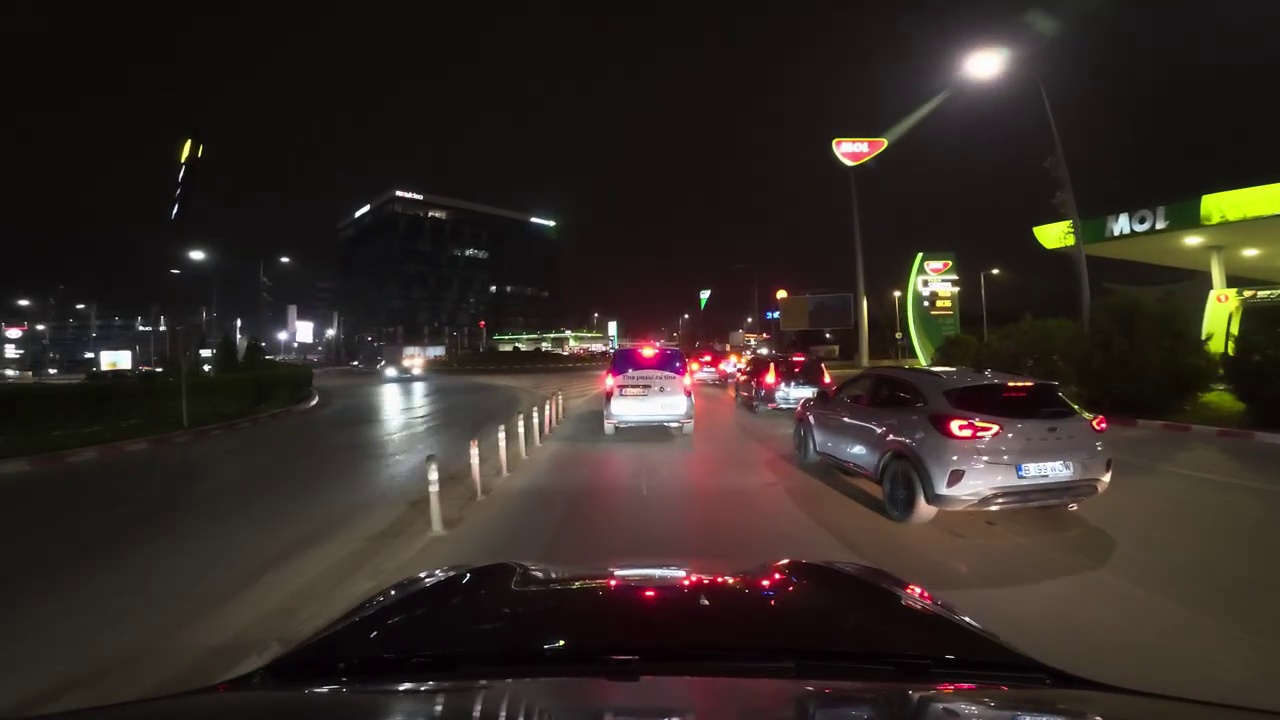acesa: (963, 46, 1008, 82), (185, 246, 209, 267), (772, 284, 790, 304)
